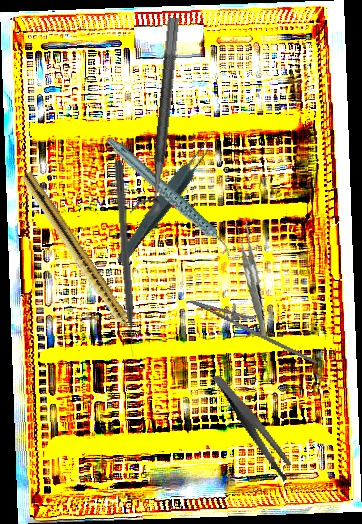Dressing Forceps: (212, 361, 296, 492), (222, 219, 280, 337)
Fixation Ring: (129, 15, 181, 218)
Handpiece: (17, 170, 143, 347), (105, 117, 233, 278)
Needle Holder: (183, 289, 327, 365)
Pusher: (112, 159, 137, 358)
Tissue Forceps: (111, 136, 219, 268)
